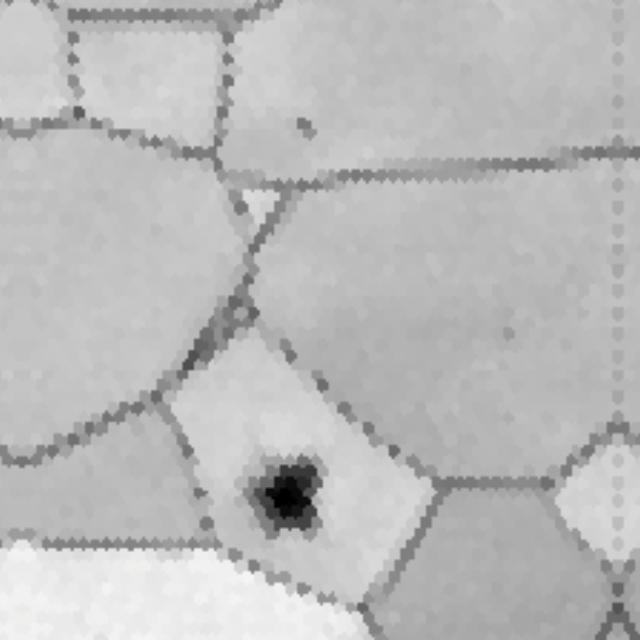good_void: (240, 454, 329, 540), (292, 112, 323, 139)
